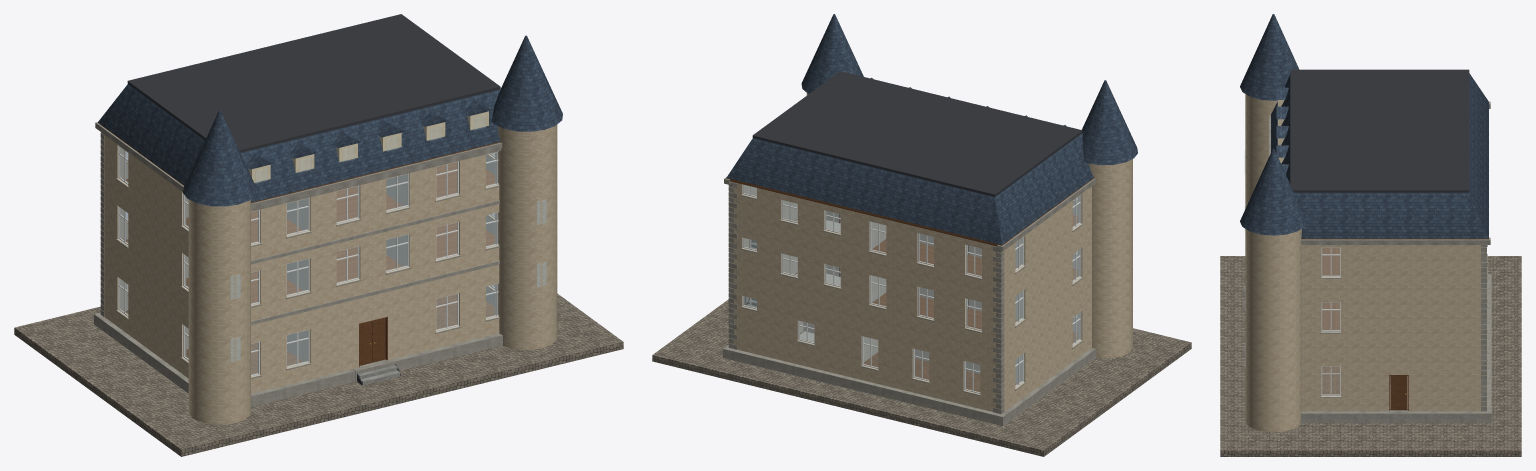
Rendered from b_loire_chateau.gltf.
The picture shows the model from 3 angles, left to right: view 1: azimuth 30°, elevation 25°; view 2: azimuth 150°, elevation 25°; view 3: azimuth 270°, elevation 25°; orthographic projection. The views are drawn at different scales.
Visible parts, largest first — view 1: S_loire_chateau; view 2: S_loire_chateau; view 3: S_loire_chateau, D_loire_chateau_F1_E1_Door0.
Boxes of the visible parts, left/top/right/bottom form: S_loire_chateau: left=14, top=14, right=623, bottom=456; S_loire_chateau: left=652, top=14, right=1191, bottom=456; S_loire_chateau: left=1220, top=14, right=1521, bottom=456; D_loire_chateau_F1_E1_Door0: left=1390, top=376, right=1407, bottom=410.
Size of the model in its own units: 26 by 17.3 by 17.
19 materials, 13 textured.
